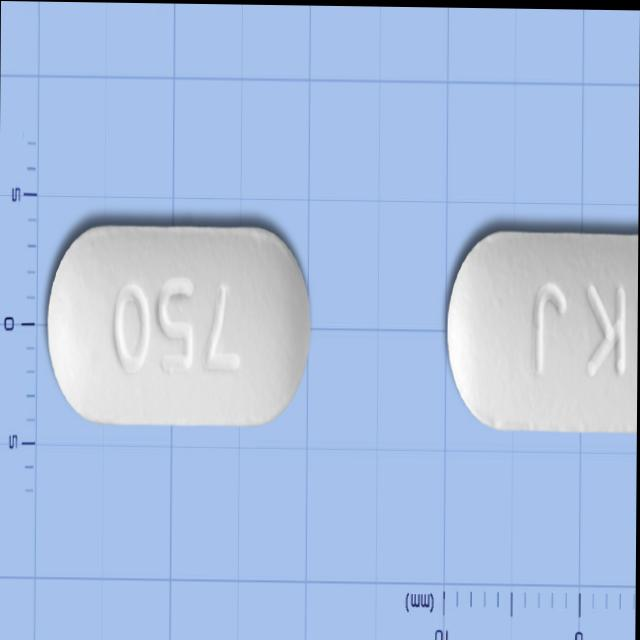Clabicks: (46, 221, 313, 429), (447, 228, 639, 432)
